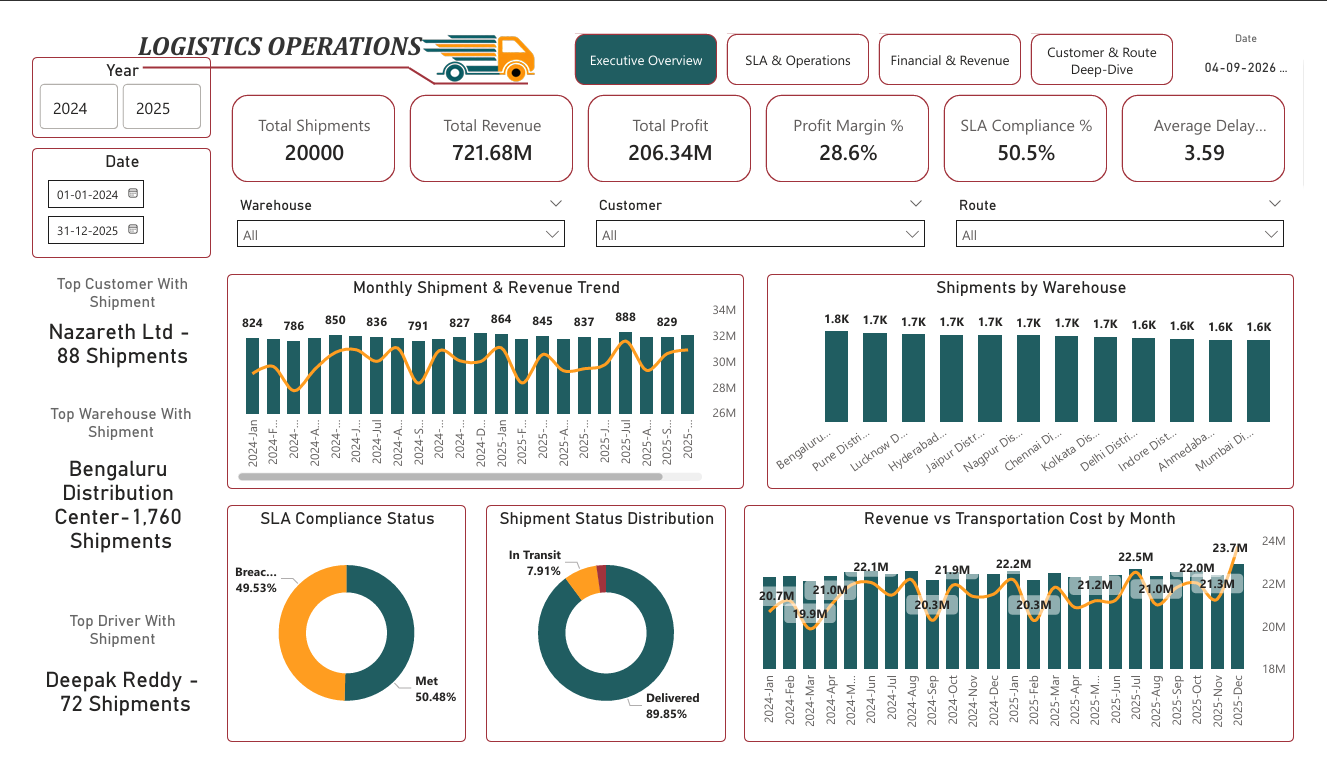

What the dashboard file says about the page in this screenshot:
{"tool":"powerbi","page":{"name":"Executive Overview","canvas":[1280,720],"ordinal":0},"visuals":[{"type":"image","box":[395.7,0,120,64.3],"z":0,"group":"g1"},{"type":"shape","box":[118.3,27.5,268.3,29.2],"z":0,"group":"g2"},{"type":"cardVisual","fields":{"Data":["Measure.Total Shipments","Measure.Total Revenue","Measure.Total Profit","Measure.Profit Margin %","Measure.SLA Compliance %","Measure.Average Delay Hours"]},"box":[202.8,64.7,1067.3,97],"z":0},{"type":"shape","box":[409.1,48.3,95.8,19.2],"z":1000,"group":"g2"},{"type":"lineClusteredColumnComboChart","title":"Monthly Shipment & Revenue Trend","fields":{"Category":["DimDate.YearMonth"],"Y":["Measure.Total Shipments"],"Y2":["Measure.Total Revenue"]},"box":[202.8,248.8,517.5,215.2],"z":1000},{"type":"shape","box":[383.8,41.2,28.5,18.1],"z":2000,"group":"g2"},{"type":"clusteredColumnChart","title":"Shipments by Warehouse","fields":{"Category":["DimWarehouse.WarehouseName"],"Y":["Measure.Total Shipments"]},"box":[742.6,248.8,527.4,215.2],"z":2000},{"type":"donutChart","title":"Shipment Status Distribution","fields":{"Category":["FactShipment.ShipmentStatus"],"Y":["Measure.Total Shipments"]},"box":[461.5,480.2,240.1,236.4],"z":3000},{"type":"donutChart","title":"SLA Compliance Status","fields":{"Y":["Measure.Total Shipments"],"Category":["FactShipment.SLAStatus"]},"box":[202.8,480.2,238.8,236.4],"z":4000},{"type":"lineClusteredColumnComboChart","title":"Revenue vs Transportation Cost by Month","fields":{"Category":["DimDate.YearMonth"],"Y":["Measure.Total Revenue"],"Y2":["Measure.Total Transportation Cost"]},"box":[720.3,480.2,549.8,236.4],"z":5000},{"type":"slicer","title":"Date","fields":{"Values":["DimDate.Date"]},"box":[8.2,123.5,178.4,109.8],"z":6000},{"type":"slicer","fields":{"Values":["DimWarehouse.WarehouseName"]},"box":[202.8,166.7,348,66],"z":7000},{"type":"slicer","fields":{"Values":["DimCustomer.CustomerName"]},"box":[562.3,166.7,348.3,66],"z":8000},{"type":"slicer","fields":{"Values":["DimRoute.RouteID"]},"box":[921.8,166.7,348.3,66],"z":9000},{"type":"advancedSlicerVisual","fields":{"Values":["DimDate.Year"]},"box":[8.2,31.6,178.4,81],"z":10000},{"type":"pageNavigator","box":[551.4,8.6,598.6,51.4],"z":11000},{"type":"card","title":"Top Customer With Shipment","fields":{"Values":["Measure.TopCustomer"]},"box":[8.7,248.8,179.1,108.2],"z":12000},{"type":"card","title":"Top Warehouse  With Shipment","fields":{"Values":["Measure.Top Warehouse with Shipments"]},"box":[7.5,380.7,179.1,186.6],"z":13000},{"type":"card","title":"Top Driver With Shipment","fields":{"Values":["Measure.Top Driver with Shipments"]},"box":[8.7,585.9,179.1,130.6],"z":14000},{"type":"textbox","box":[97.1,0,311.4,57.1],"z":15000,"group":"g1"},{"type":"card","title":"Date","fields":{"Values":["Measure.Date & Time"]},"box":[1174.3,7.1,95.7,60],"z":15000},{"type":"group","id":"g1","title":"Group 2","box":[97.1,0,418.6,67.5],"z":16000},{"type":"group","id":"g2","title":"Group 1","box":[118.3,27.5,386.7,40],"z":17002,"group":"g1"}]}

Visuals, with their boxes in screenshot pixels (x1, y1, x2, y2), scaled from the page's 1280x720 canvas onto the 1327x767 screenshot:
image: left=410, top=0, right=535, bottom=68
shape: left=123, top=29, right=401, bottom=60
cardVisual - Measure.Total Shipments x Measure.Total Revenue: left=210, top=69, right=1317, bottom=172
shape: left=424, top=51, right=523, bottom=72
"Monthly Shipment & Revenue Trend" lineClusteredColumnComboChart: left=210, top=265, right=747, bottom=494
shape: left=398, top=44, right=427, bottom=63
"Shipments by Warehouse" clusteredColumnChart: left=770, top=265, right=1317, bottom=494
"Shipment Status Distribution" donutChart: left=478, top=512, right=727, bottom=763
"SLA Compliance Status" donutChart: left=210, top=512, right=458, bottom=763
"Revenue vs Transportation Cost by Month" lineClusteredColumnComboChart: left=747, top=512, right=1317, bottom=763
"Date" slicer: left=9, top=132, right=193, bottom=249
slicer - DimWarehouse.WarehouseName: left=210, top=178, right=571, bottom=248
slicer - DimCustomer.CustomerName: left=583, top=178, right=944, bottom=248
slicer - DimRoute.RouteID: left=956, top=178, right=1317, bottom=248
advancedSlicerVisual - DimDate.Year: left=9, top=34, right=193, bottom=120
pageNavigator: left=572, top=9, right=1192, bottom=64
"Top Customer With Shipment" card: left=9, top=265, right=195, bottom=380
"Top Warehouse  With Shipment" card: left=8, top=406, right=193, bottom=604
"Top Driver With Shipment" card: left=9, top=624, right=195, bottom=763
textbox: left=101, top=0, right=423, bottom=61
"Date" card: left=1217, top=8, right=1317, bottom=71
"Group 2" group: left=101, top=0, right=535, bottom=72
"Group 1" group: left=123, top=29, right=524, bottom=72
